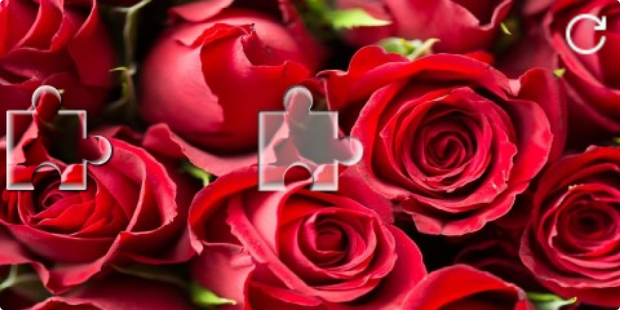target: (258, 86, 362, 191)
